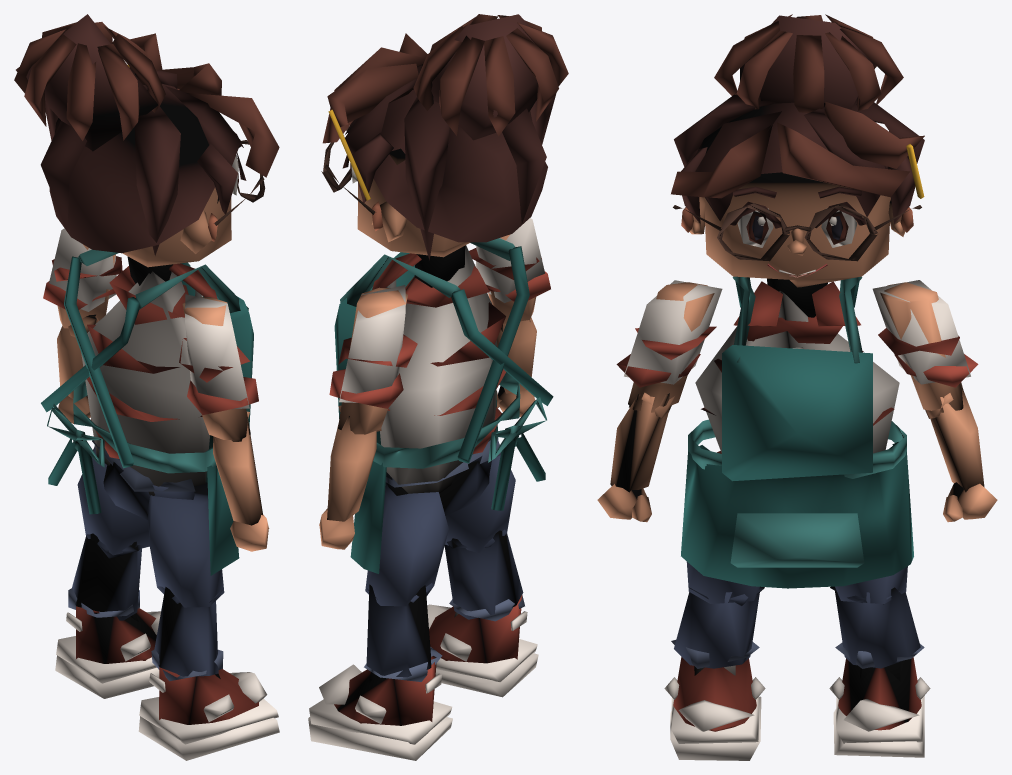
File: npc.depot-clerk.lod2.glb
3 renders of one model, left to right at view 1: azimuth 30°, elevation 25°; view 2: azimuth 150°, elevation 25°; view 3: azimuth 270°, elevation 25°, orthographic. The views are drawn at different scales.
Visible parts, largest first — view 1: head, torso, footR, armR, footL, legR, shinR, shinL, armL, foreArmR, legL, hip (+3 smaller); view 2: head, torso, footL, armL, footR, legL, shinR, shinL, armR, foreArmL, legR, hip (+3 smaller); view 3: torso, head, footR, footL, armL, armR, shinR, shinL, foreArmR, foreArmL, handL, legR (+2 smaller).
Boxes of the visible parts, bbox=[...] form: head: bbox=[14, 14, 279, 285]; torso: bbox=[41, 249, 253, 575]; footR: bbox=[138, 667, 279, 760]; armR: bbox=[179, 294, 258, 439]; footL: bbox=[55, 606, 160, 698]; legR: bbox=[147, 482, 224, 607]; shinR: bbox=[151, 586, 223, 681]; shinL: bbox=[68, 533, 144, 620]; armL: bbox=[43, 228, 122, 328]; foreArmR: bbox=[213, 411, 262, 525]; legL: bbox=[77, 446, 149, 555]; hip: bbox=[92, 440, 195, 519]; head: bbox=[321, 14, 568, 287]; torso: bbox=[334, 238, 553, 573]; footL: bbox=[308, 656, 452, 760]; armL: bbox=[329, 285, 417, 434]; footR: bbox=[427, 595, 538, 697]; legL: bbox=[365, 482, 448, 606]; shinR: bbox=[444, 529, 524, 621]; shinL: bbox=[364, 583, 442, 681]; armR: bbox=[469, 218, 550, 323]; foreArmL: bbox=[327, 405, 381, 521]; legR: bbox=[445, 455, 515, 552]; hip: bbox=[385, 438, 500, 515]; torso: bbox=[681, 276, 913, 588]; head: bbox=[671, 14, 924, 317]; footR: bbox=[664, 657, 765, 760]; footL: bbox=[829, 657, 930, 757]; armL: bbox=[872, 280, 978, 412]; armR: bbox=[616, 280, 722, 412]; shinR: bbox=[671, 586, 764, 668]; shinL: bbox=[830, 586, 924, 668]; foreArmR: bbox=[610, 392, 674, 492]; foreArmL: bbox=[925, 389, 984, 492]; handL: bbox=[943, 482, 997, 522]; legR: bbox=[686, 561, 759, 603].
Size of the model in its own units: 0.4655 by 1.41 by 0.7504.
